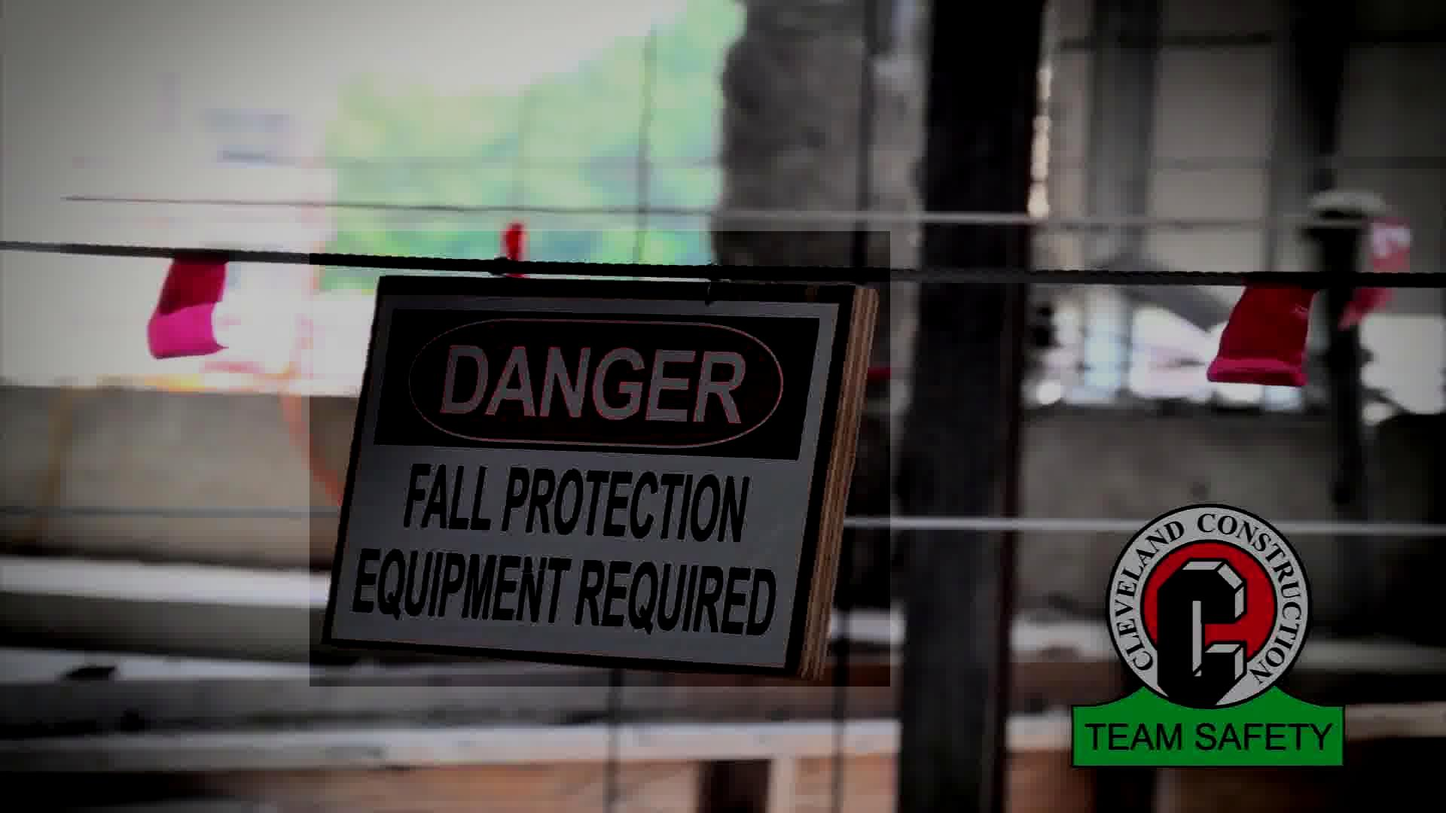safety_signage: (310, 231, 890, 687)
